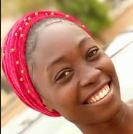without_facemask: (70, 80, 122, 116)
